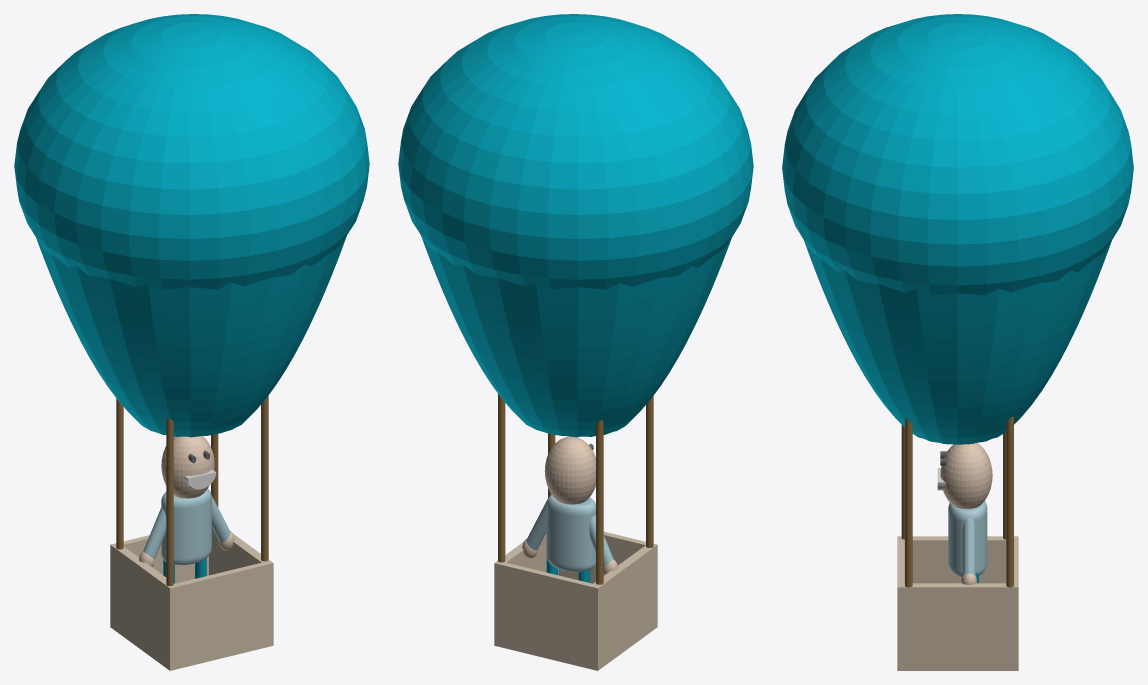
File: hotair_balloon.glb
3 views of the same model, side by side, from view 1: azimuth 30°, elevation 25°; view 2: azimuth 150°, elevation 25°; view 3: azimuth 270°, elevation 25° (orthographic).
Parts seen in each view (by area): view 1: Mesh_Mesh_head_geo.001_lambert2SG.001; view 2: Mesh_Mesh_head_geo.001_lambert2SG.001; view 3: Mesh_Mesh_head_geo.001_lambert2SG.001.
Part boxes in pixels (x1,y1,x2,y2): Mesh_Mesh_head_geo.001_lambert2SG.001: (14,14,369,670); Mesh_Mesh_head_geo.001_lambert2SG.001: (398,14,753,670); Mesh_Mesh_head_geo.001_lambert2SG.001: (782,14,1133,670).
Size of the model in its own units: 62.9 by 117 by 61.
